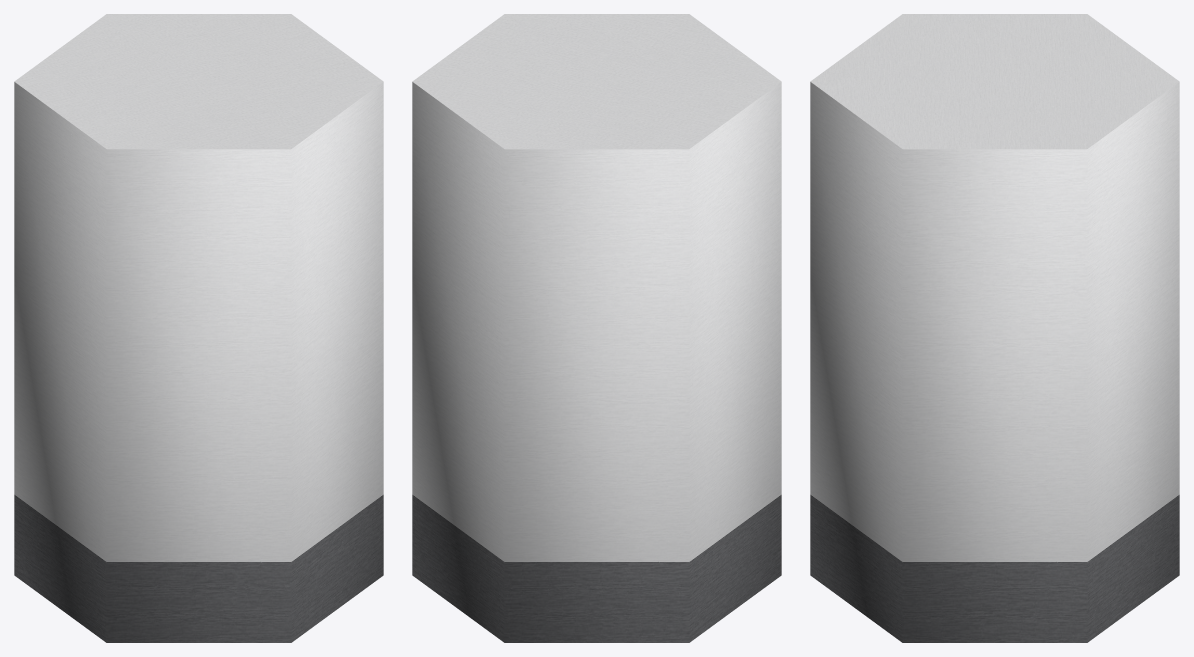
File: grain-silo-hopper-6x10-cbj_LOD02.gltf
3 renders of one model, left to right at view 1: azimuth 30°, elevation 25°; view 2: azimuth 150°, elevation 25°; view 3: azimuth 270°, elevation 25°, orthographic.
Parts seen in each view (by area): view 1: grain-silo-simple; view 2: grain-silo-simple; view 3: grain-silo-simple.
Part boxes in pixels (<box>): grain-silo-simple: <box>14,14,383,642</box>; grain-silo-simple: <box>412,14,781,642</box>; grain-silo-simple: <box>810,14,1179,642</box>.
Size of what is drawn, in the model's own units: 4.85 by 8.26 by 5.6.
